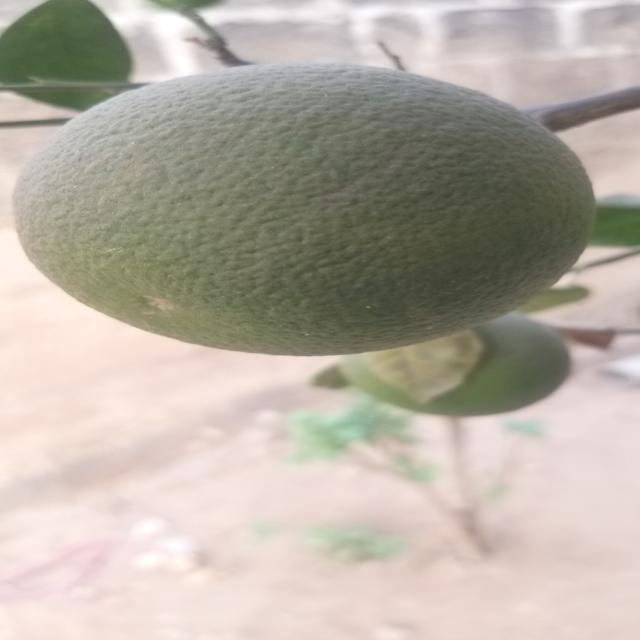agrume: (23, 67, 585, 357)
